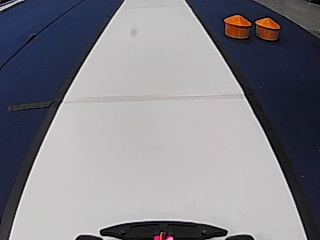granary: (223, 13, 251, 39), (255, 15, 281, 40)
